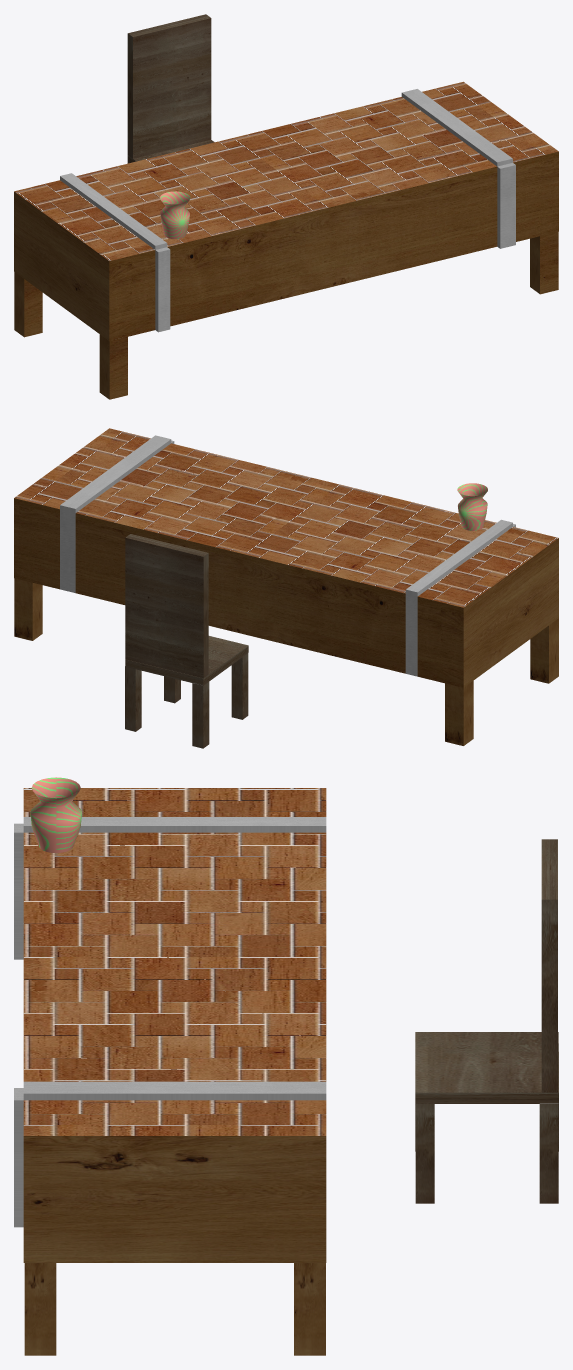
Rendered from Desk.fbx.
The picture shows the model from 3 angles, top to bottom: view 1: azimuth 30°, elevation 25°; view 2: azimuth 150°, elevation 25°; view 3: azimuth 270°, elevation 25°; orthographic projection. The views are drawn at different scales.
Parts seen in each view (by area): view 1: pCube6, pCube12, pCylinder1; view 2: pCube6, pCube12, pCube7, pCylinder1, pCube8, pCube9, pCube10, pCube11; view 3: pCube6, pCube7, pCube12, pCylinder1, pCube10, pCube11.
Boxes of the visible parts, x1,y1,x2,y2 form: pCube6: (14,81,558,399); pCube12: (127,14,211,158); pCylinder1: (159,191,190,238); pCube6: (14,428,558,745); pCube12: (125,534,208,678); pCube7: (125,636,248,685); pCylinder1: (457,483,487,530); pCube8: (192,682,209,748); pCube9: (231,653,248,719); pCube10: (125,666,141,731); pCube11: (164,676,180,703); pCube6: (14,788,326,1355); pCube7: (415,1032,558,1103); pCube12: (541,839,557,1092); pCylinder1: (30,777,81,853); pCube10: (539,1103,558,1203); pCube11: (415,1103,434,1203).
Size of the model in its own units: 22.7 by 9.53 by 15.03.
Materials: 6 (5 with a texture image).
